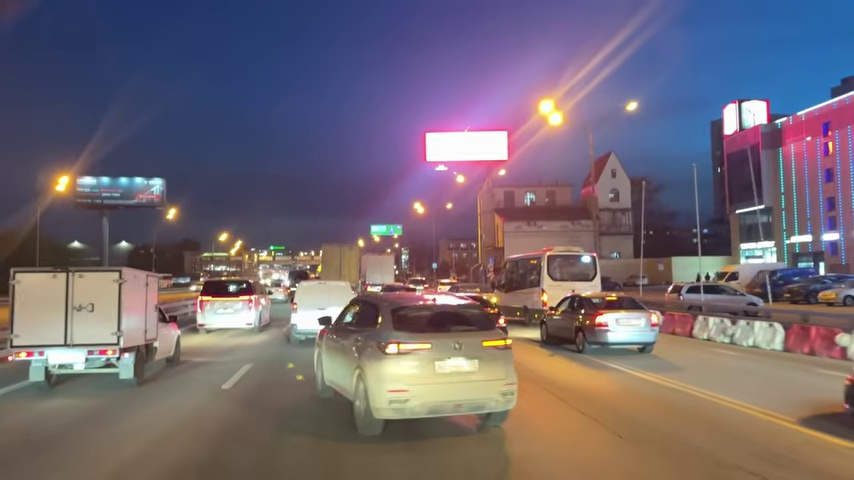acesa: (535, 96, 567, 129), (50, 171, 76, 198), (215, 230, 239, 253), (162, 205, 181, 223), (411, 199, 428, 217), (215, 230, 233, 247), (622, 99, 640, 115)
